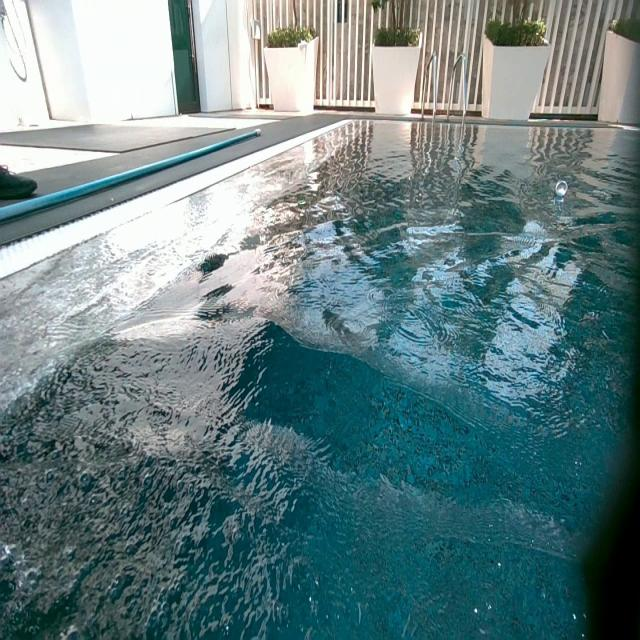Cans: (555, 180, 569, 197)
